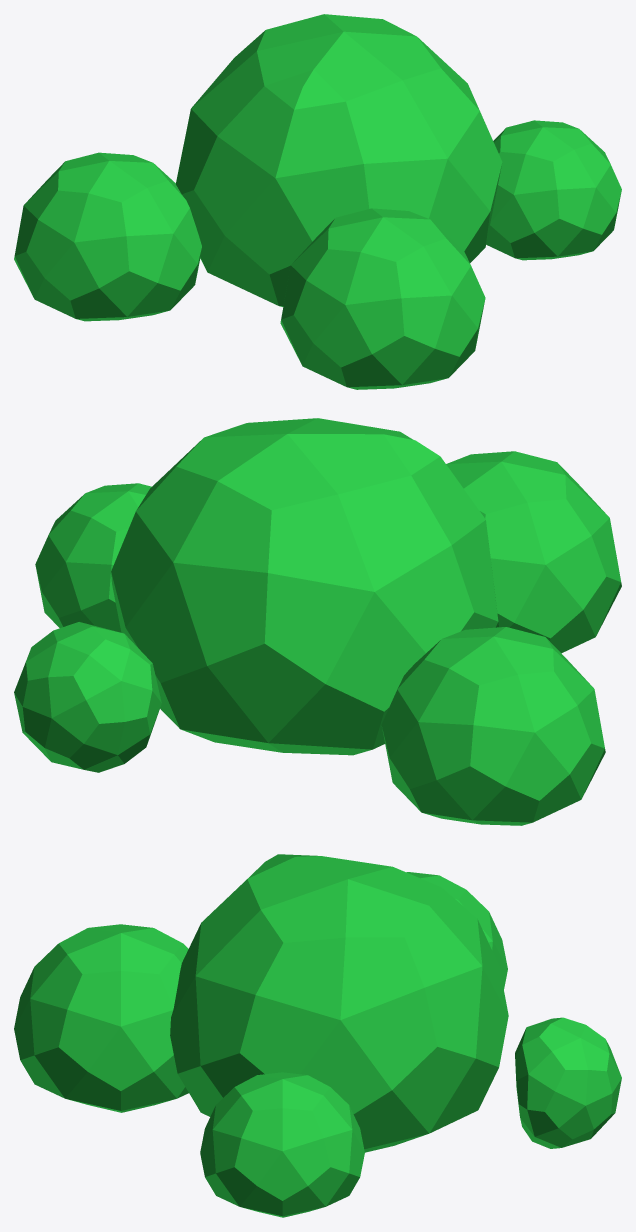
Rendered from LowPoly-Bush-Ana-2.fbx.
The picture shows the model from 3 angles, top to bottom: view 1: azimuth 30°, elevation 25°; view 2: azimuth 150°, elevation 25°; view 3: azimuth 270°, elevation 25°; orthographic projection. The views are drawn at different scales.
Parts seen in each view (by area): view 1: Icosphere, Icosphere.004, Icosphere.002, Icosphere.003; view 2: Icosphere, Icosphere.002, Icosphere.004, Icosphere.001, Icosphere.003; view 3: Icosphere, Icosphere.004, Icosphere.003, Icosphere.001, Icosphere.002.
Boxes of the visible parts, left/top/right/bottom form: Icosphere: left=176, top=14, right=502, bottom=306; Icosphere.004: left=280, top=208, right=485, bottom=389; Icosphere.002: left=14, top=152, right=201, bottom=321; Icosphere.003: left=486, top=120, right=621, bottom=260; Icosphere: left=111, top=418, right=498, bottom=755; Icosphere.002: left=381, top=627, right=605, bottom=825; Icosphere.004: left=446, top=451, right=621, bottom=653; Icosphere.001: left=14, top=622, right=161, bottom=772; Icosphere.003: left=35, top=483, right=151, bottom=632; Icosphere: left=170, top=854, right=508, bottom=1152; Icosphere.004: left=14, top=924, right=188, bottom=1112; Icosphere.003: left=200, top=1072, right=364, bottom=1217; Icosphere.001: left=515, top=1017, right=621, bottom=1148; Icosphere.002: left=406, top=872, right=507, bottom=989.
Bounding box in the file's own units: 269 × 118 × 263.
